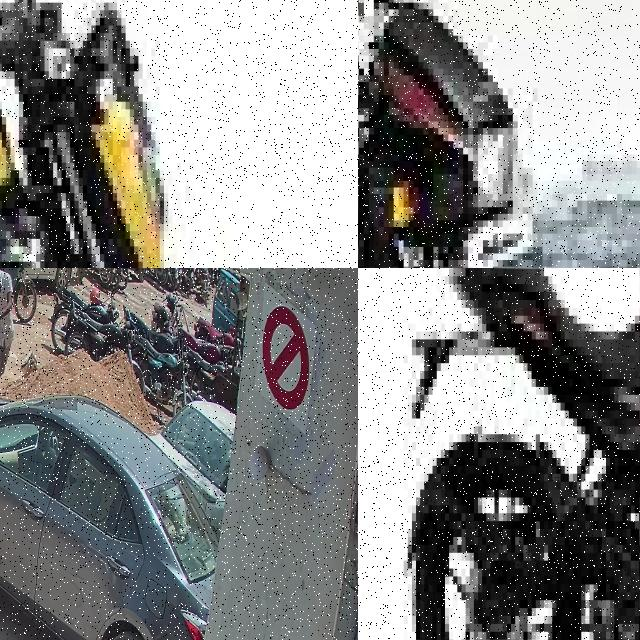bike: (0, 0, 356, 268), (407, 268, 640, 640), (358, 0, 640, 268), (48, 282, 115, 355), (61, 300, 133, 362), (133, 330, 189, 394), (123, 305, 183, 358), (186, 345, 231, 401), (194, 316, 241, 367), (0, 268, 36, 322), (183, 330, 226, 364), (150, 292, 182, 333), (79, 268, 117, 287), (147, 268, 171, 285)
car: (0, 392, 217, 640), (149, 402, 233, 528)
